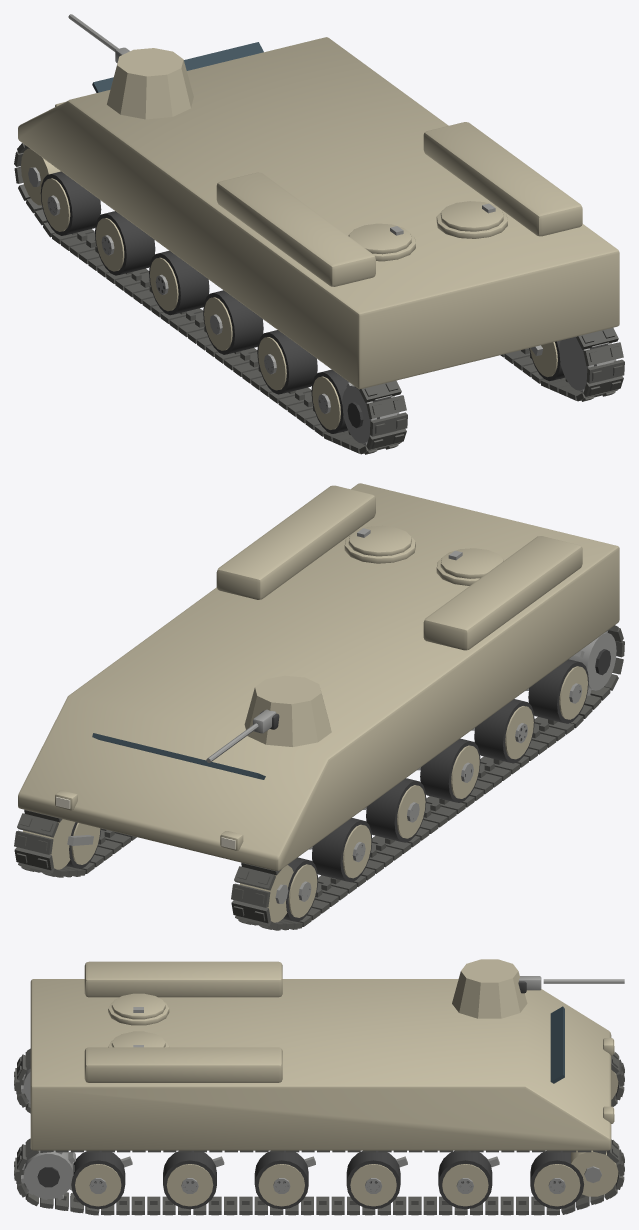
File: rus_apc_mtlb.glb
The picture shows the model from 3 angles, top to bottom: view 1: azimuth 30°, elevation 25°; view 2: azimuth 150°, elevation 25°; view 3: azimuth 270°, elevation 25°; orthographic projection. The views are drawn at different scales.
Visible parts, largest first — view 1: body, turret; view 2: body, turret, barrel; view 3: body, turret, barrel.
Part boxes in pixels (x1,y1,x2,y2): body: (14,37,624,454); turret: (107,48,193,119); body: (14,483,624,930); turret: (244,675,331,746); barrel: (206,709,279,762); body: (14,961,624,1215); turret: (452,959,527,1018); barrel: (518,976,624,993).
Size of the model in its own units: 2.85 by 2.02 by 6.79.
